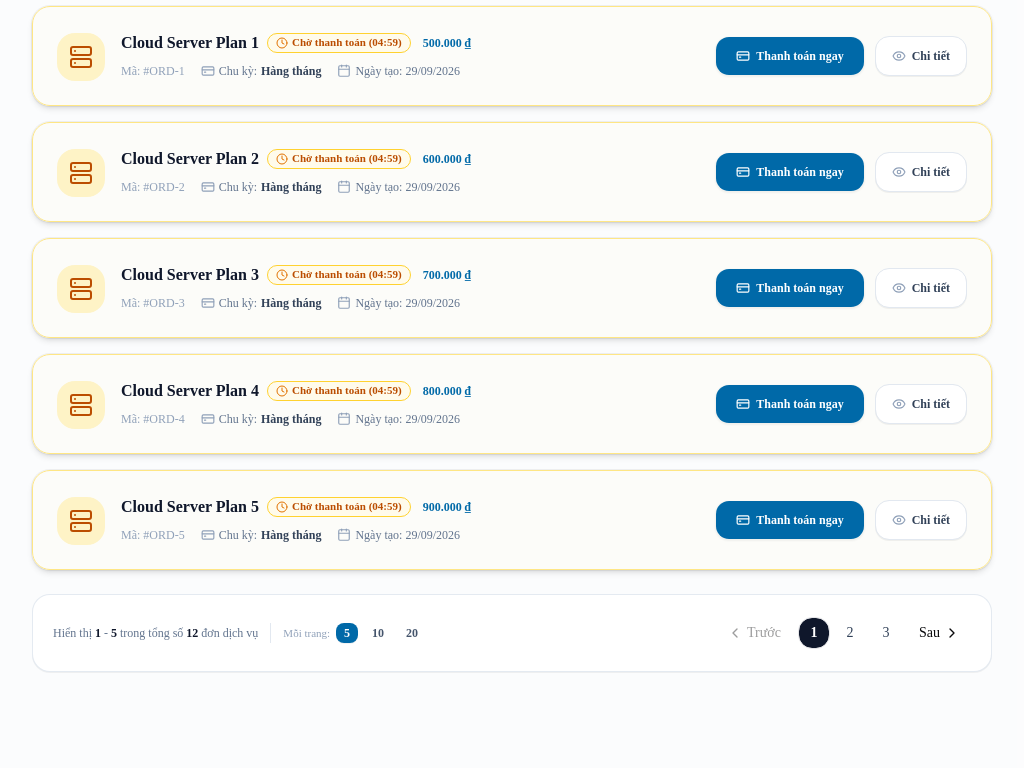
Test case: OrderHistoryView Component › should paginate orders correctly when multiple items exist
The image size is (1024, 768).
(page scrolled)
Expected: the heading "Cloud Server Plan 1" is shown, [121,31,259,55]
Expected: the heading "Cloud Server Plan 5" is shown, [121,495,259,519]
Note: Click on page 2
Click the link "2": (850, 632) [846,625,854,640]
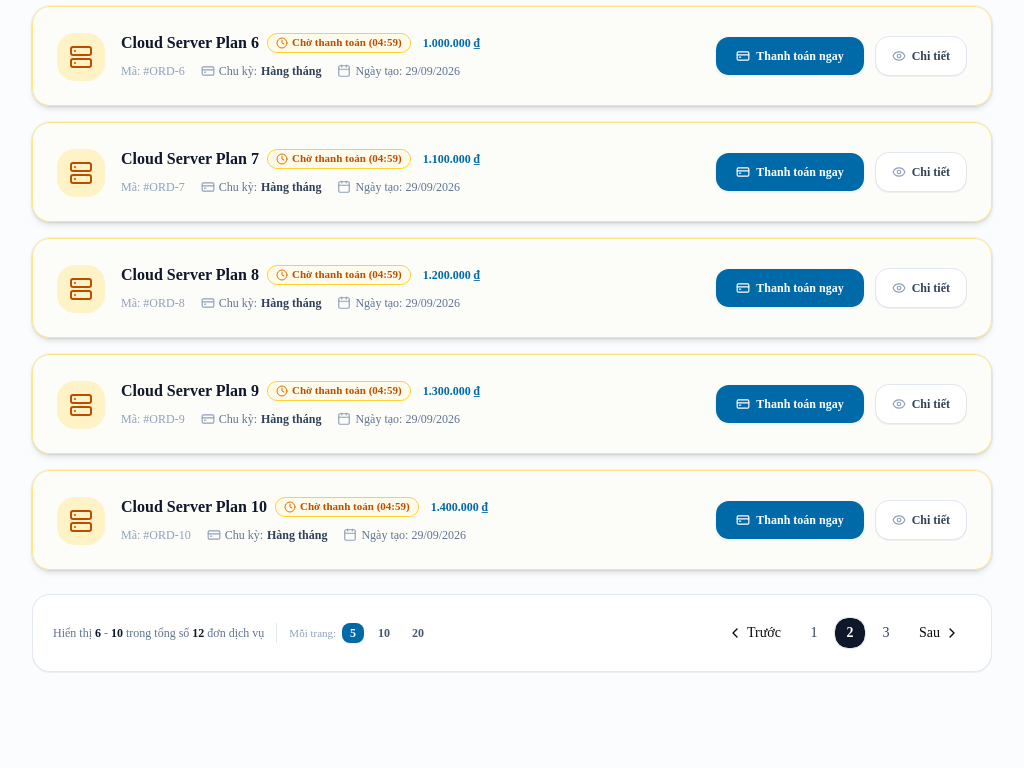
Now the heading "Cloud Server Plan 6" is shown, box [121,31,259,55]
